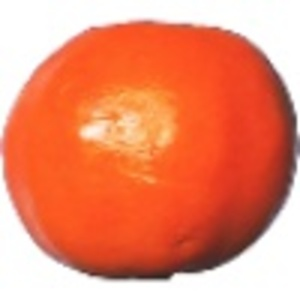tangerina: (1, 18, 300, 282)
